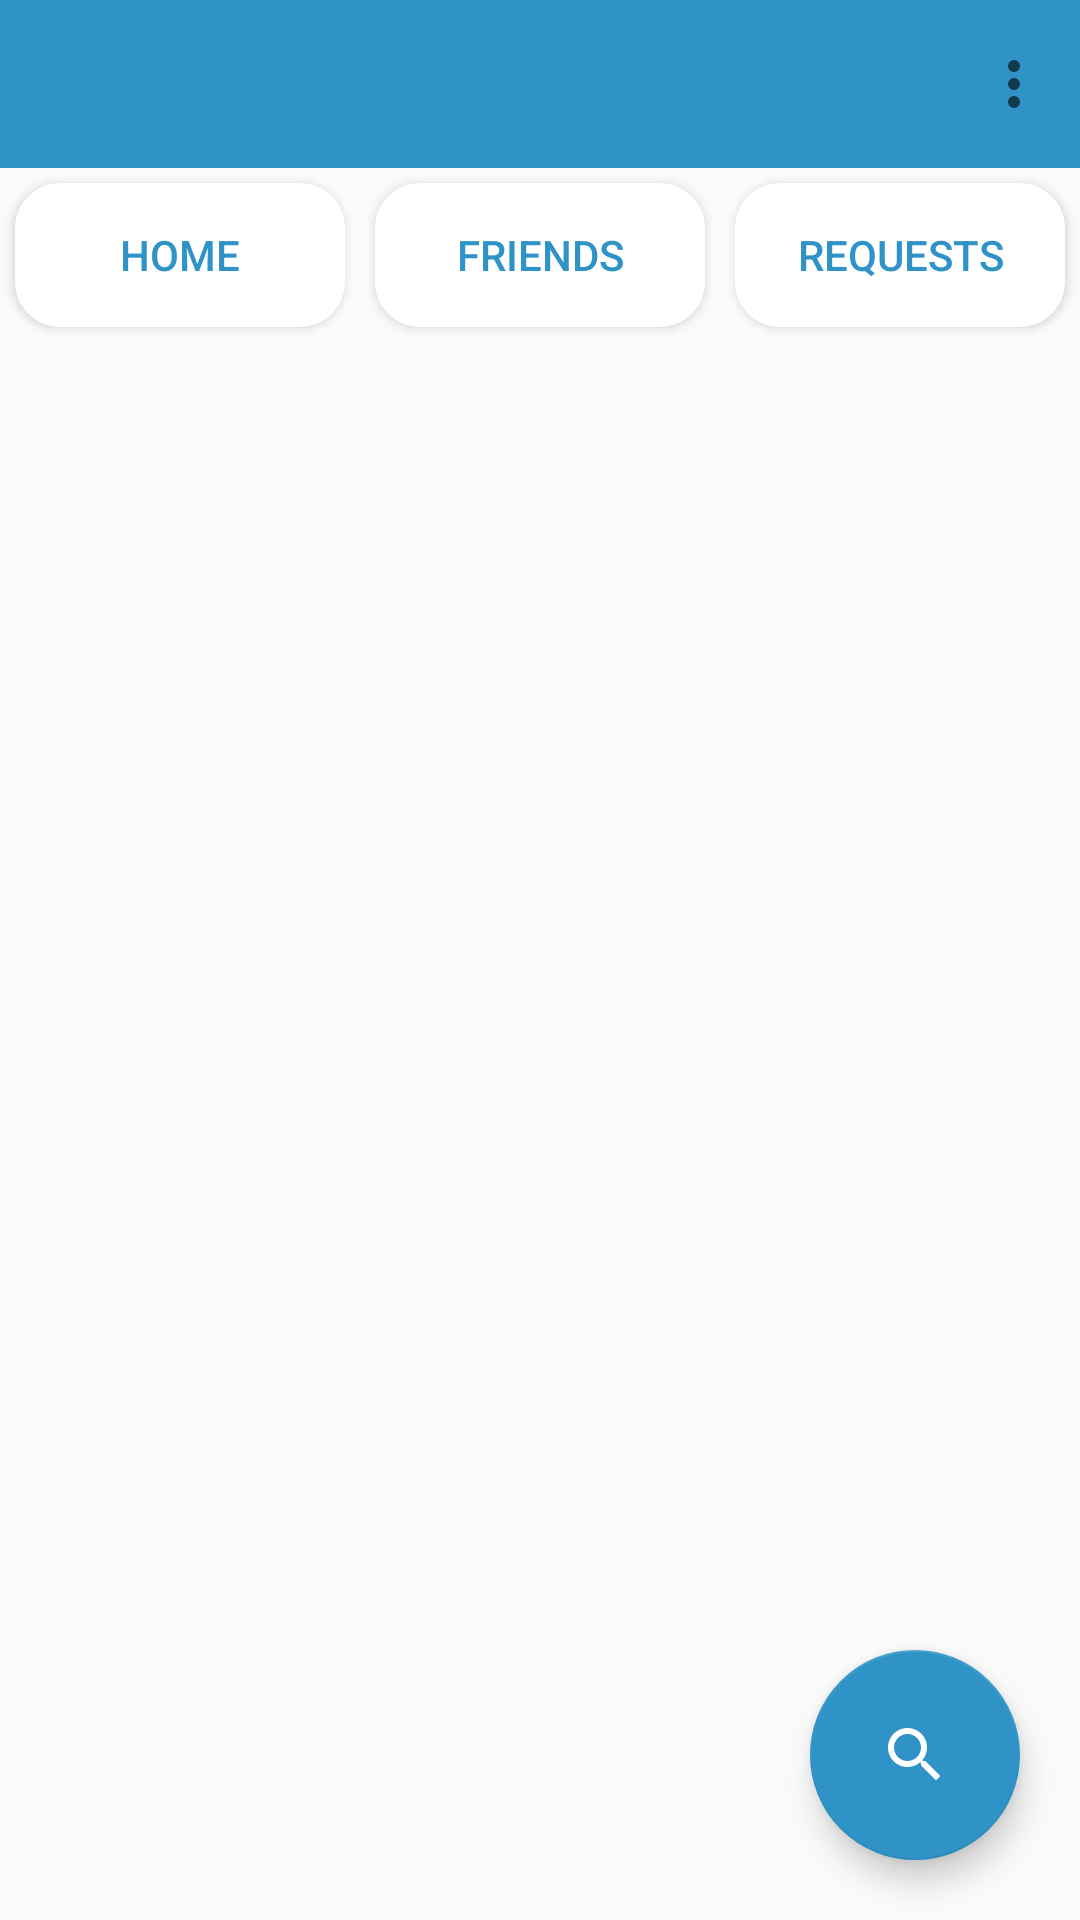

Where icons sit on this 1080 × 1920 app screen, as (x1, y1, x2, y2):
search: (810, 1650, 1020, 1860)
